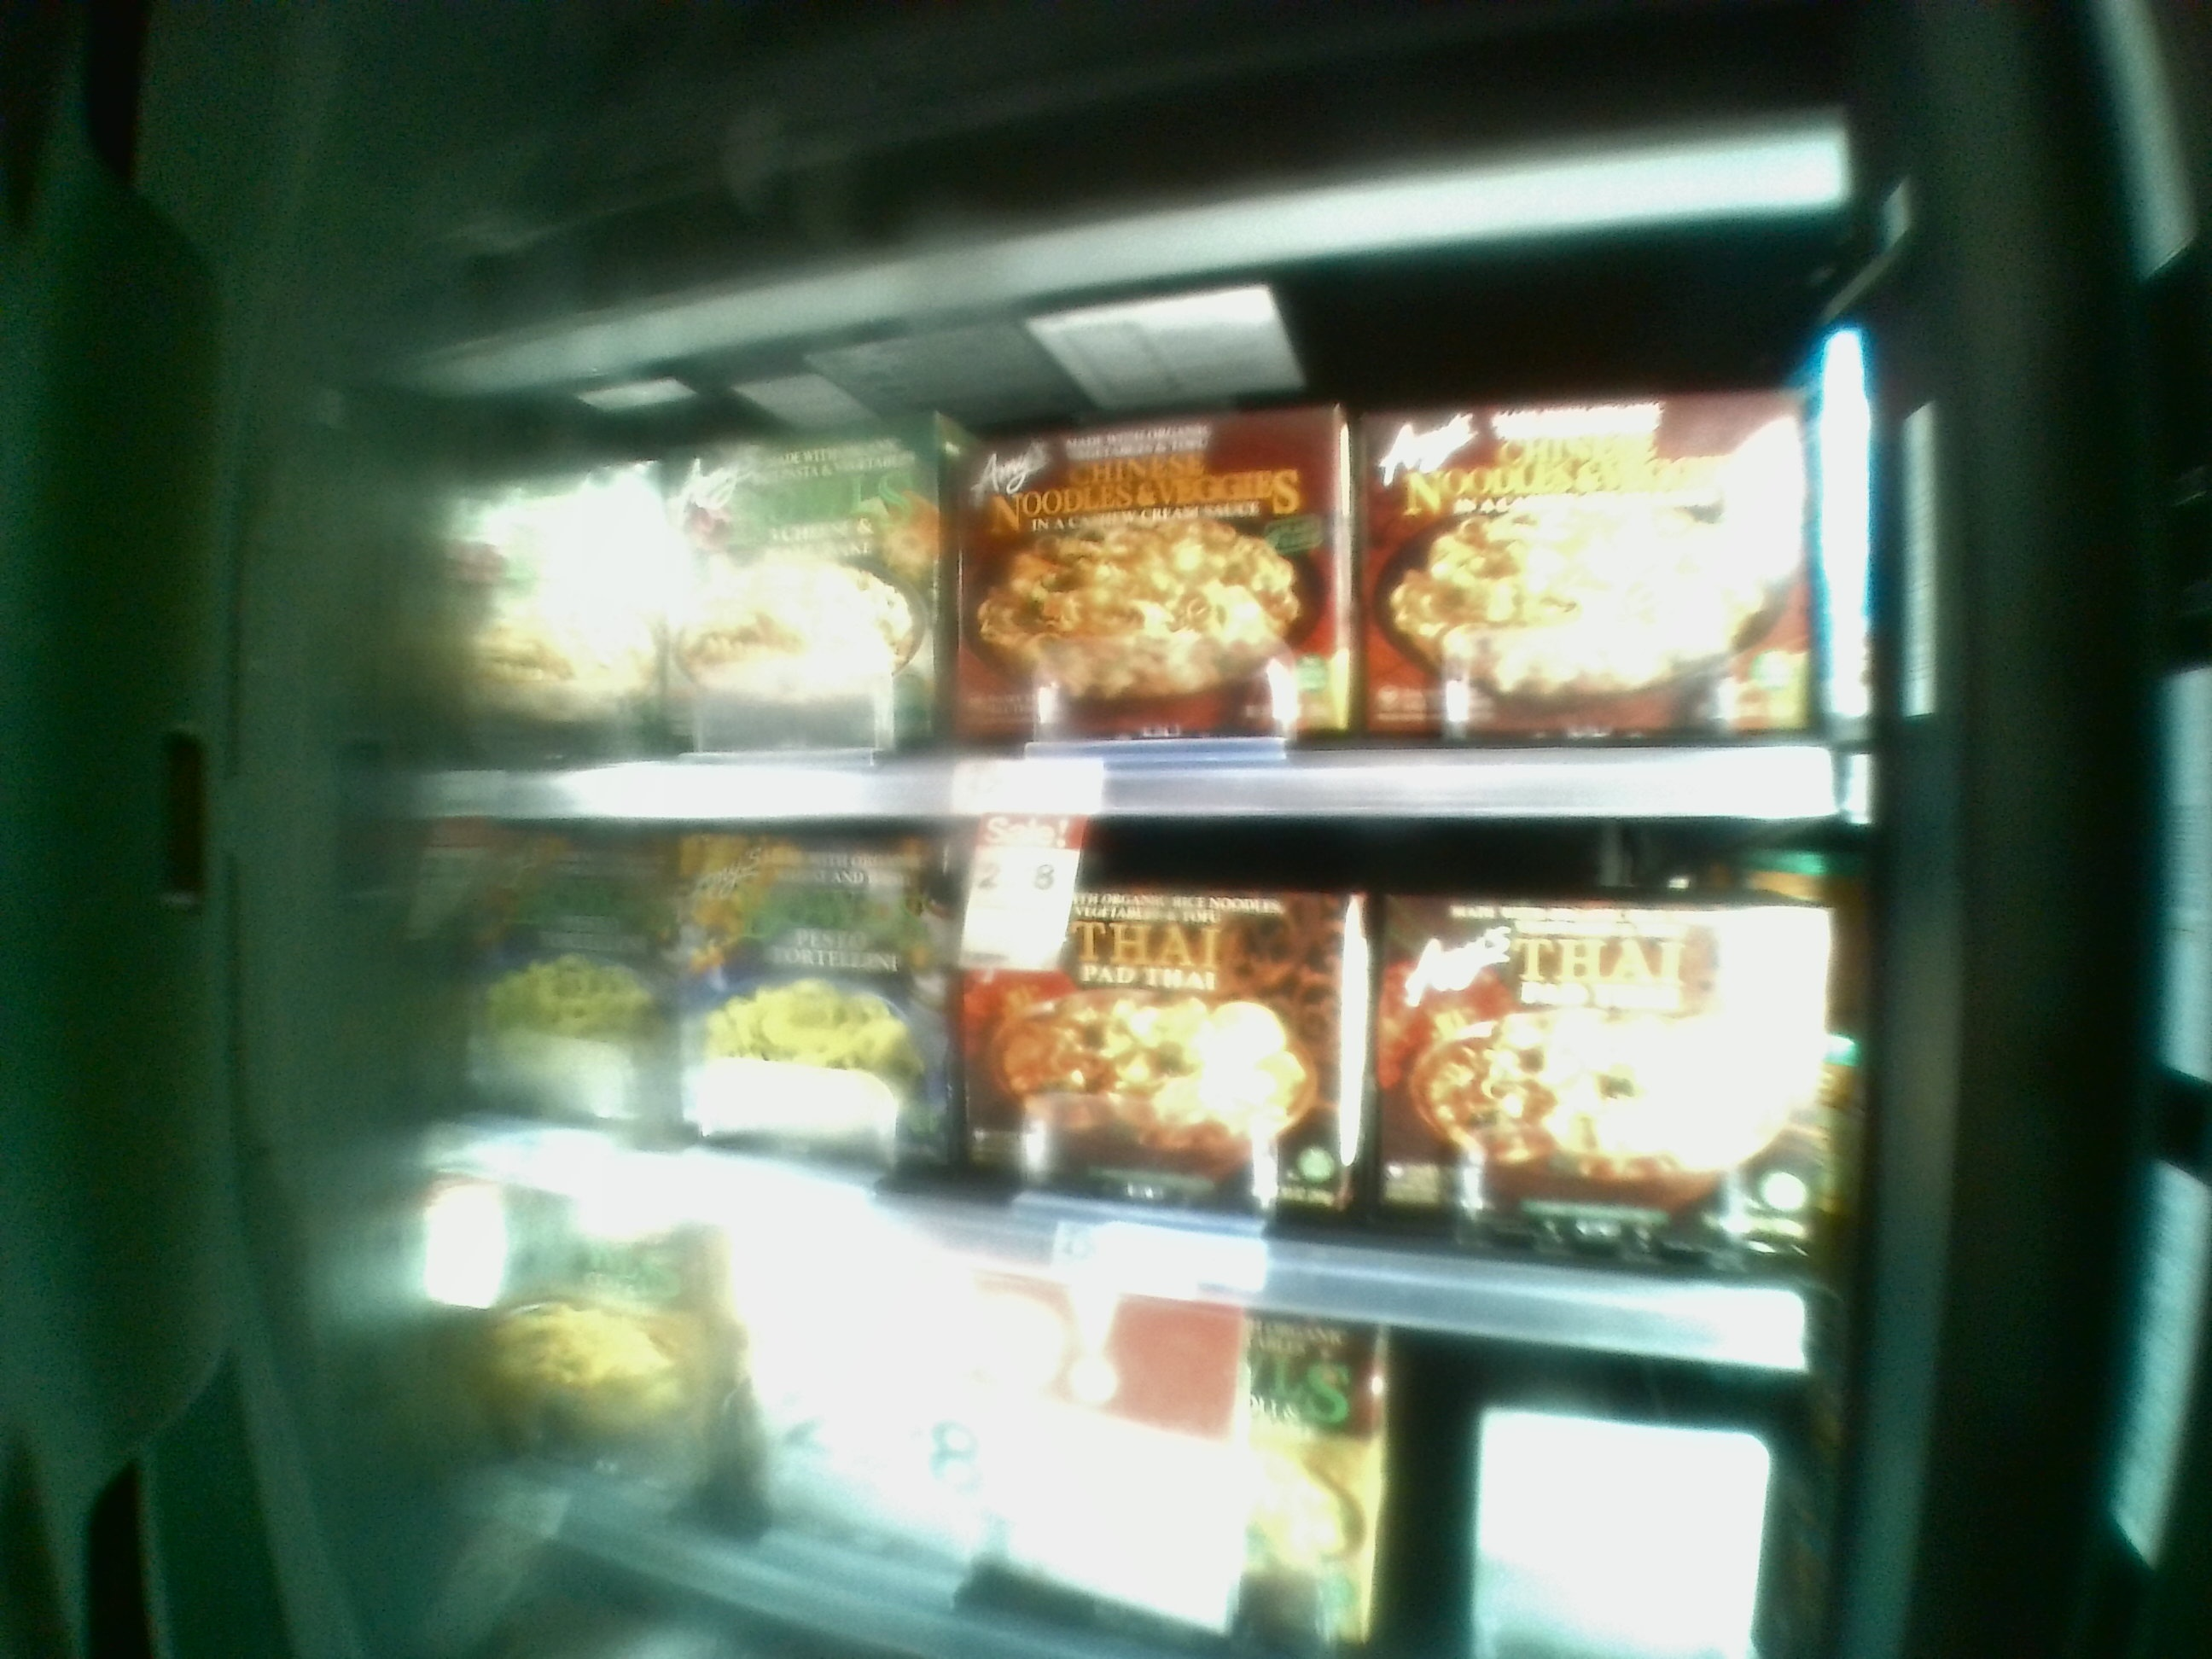shelf: (420, 274, 1846, 821), (435, 819, 1850, 1354)
